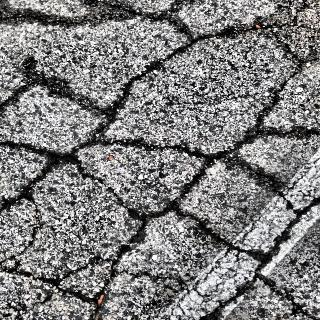alligator-crack: (7, 10, 318, 311)
